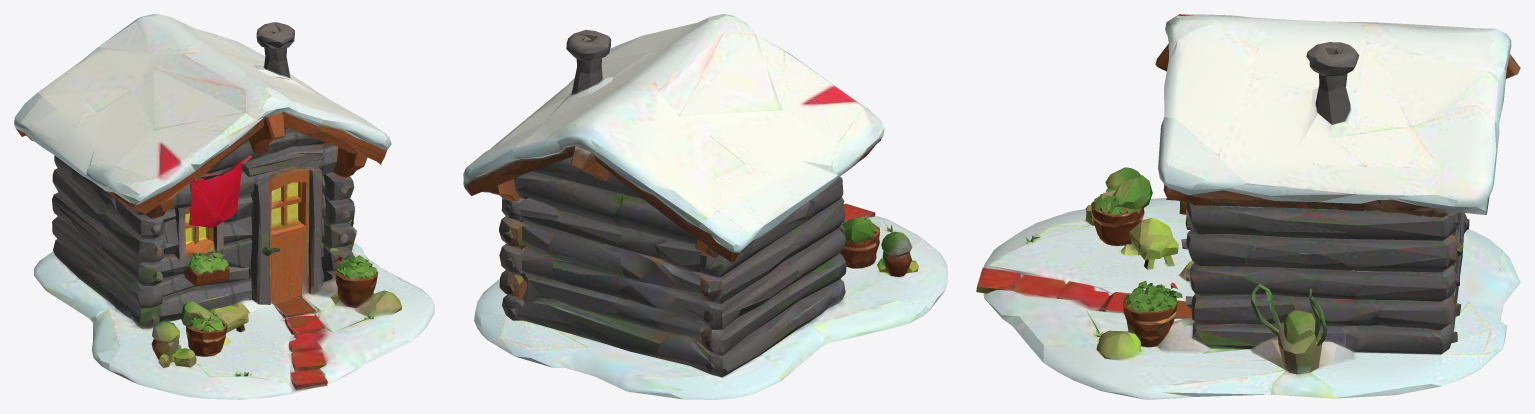
File: med_center.glb
3 renders of one model, left to right at view 1: azimuth 30°, elevation 25°; view 2: azimuth 150°, elevation 25°; view 3: azimuth 270°, elevation 25°, orthographic. The views are drawn at different scales.
Size of the model in its own units: 1.63 by 1.16 by 1.9.
Materials: 1 (1 with a texture image).
